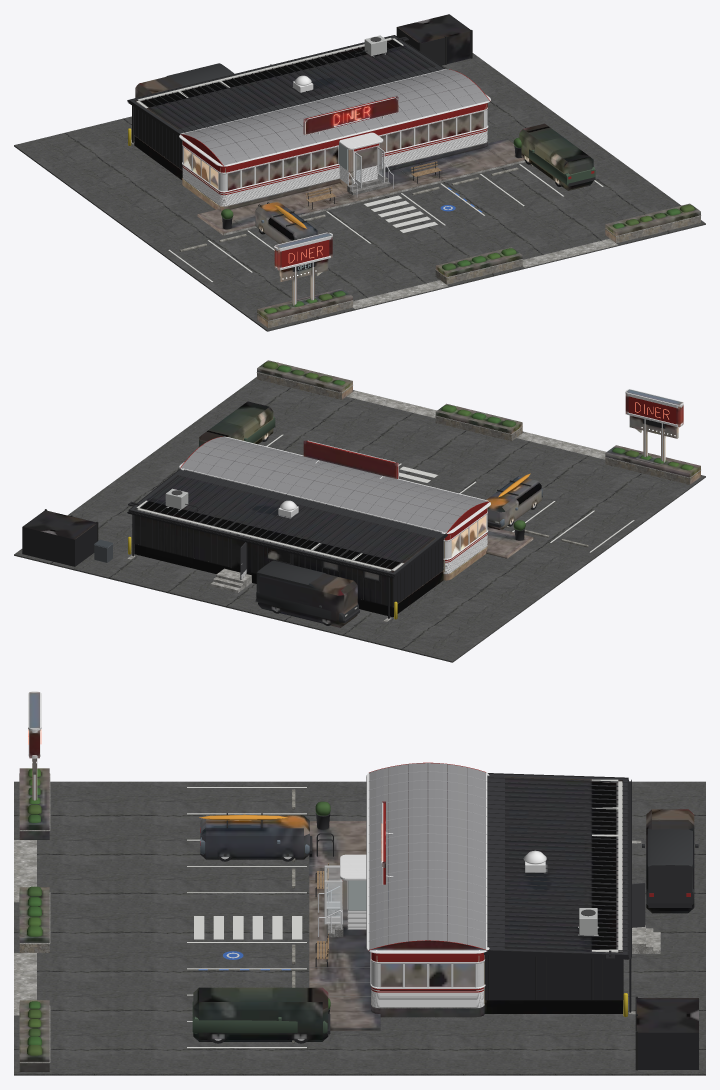
File: town2_diner.gltf
The picture shows the model from 3 angles, top to bottom: view 1: azimuth 30°, elevation 25°; view 2: azimuth 150°, elevation 25°; view 3: azimuth 270°, elevation 25°; orthographic projection. The views are drawn at different scales.
Visible parts, largest first — view 1: Town2Diner_Asphalt, Town2Diner_LOD1_Mesh, Town2Diner_Paint, Town2Diner_Steel, Town2Diner_Concrete, Town2Diner_Stone, Town2Diner_Chrome, Town2Diner_Wood; view 2: Town2Diner_Asphalt, Town2Diner_LOD1_Mesh, Town2Diner_Paint, Town2Diner_Steel, Town2Diner_Concrete, Town2Diner_Stone; view 3: Town2Diner_Asphalt, Town2Diner_Paint, Town2Diner_LOD1_Mesh, Town2Diner_Steel, Town2Diner_Concrete, Town2Diner_Glass.
Boxes of the visible parts, x1,y1,x2,y2 form: Town2Diner_Asphalt: (14, 53, 705, 331); Town2Diner_LOD1_Mesh: (134, 14, 700, 327); Town2Diner_Paint: (127, 27, 694, 313); Town2Diner_Steel: (179, 53, 558, 305); Town2Diner_Concrete: (127, 140, 701, 321); Town2Diner_Stone: (268, 216, 700, 328); Town2Diner_Chrome: (182, 107, 487, 197); Town2Diner_Wood: (305, 161, 441, 202); Town2Diner_Asphalt: (14, 377, 705, 662); Town2Diner_LOD1_Mesh: (22, 360, 700, 627); Town2Diner_Paint: (22, 361, 693, 625); Town2Diner_Steel: (166, 389, 683, 623); Town2Diner_Concrete: (127, 372, 700, 622); Town2Diner_Stone: (257, 373, 689, 484); Town2Diner_Asphalt: (14, 781, 705, 1075); Town2Diner_Paint: (27, 762, 698, 1070); Town2Diner_LOD1_Mesh: (19, 692, 698, 1071); Town2Diner_Steel: (28, 691, 598, 1040); Town2Diner_Concrete: (14, 773, 660, 1063); Town2Diner_Glass: (326, 868, 340, 916).
Size of the model in its own units: 30 by 4.89 by 30.
19 materials, 12 textured.
